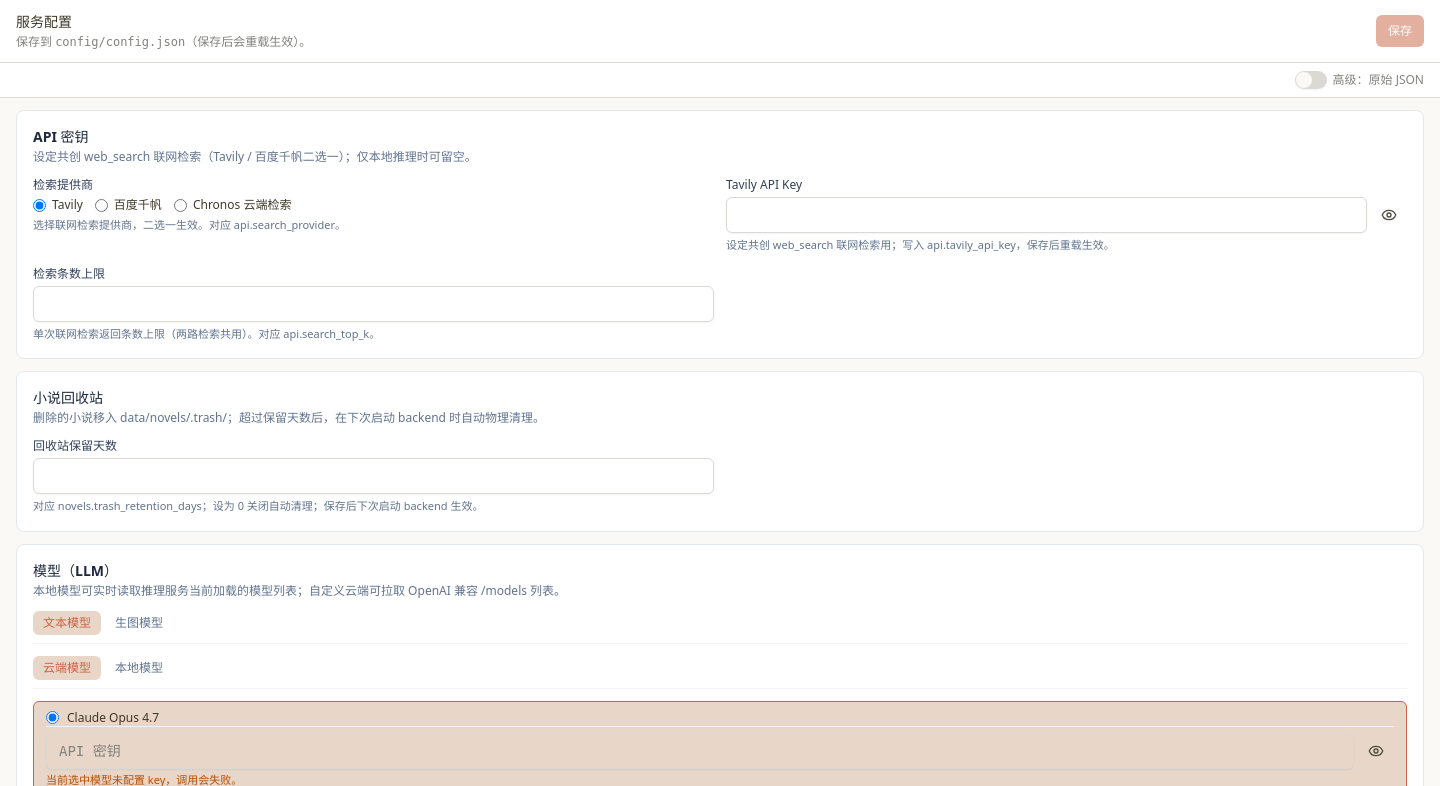
Test: ServiceConfigPage model tabs › 切到本地 tab 后不显示云端目录列表
Expected: the text "Claude Opus 4.7" is shown, [46,709,159,726]
Click the button "本地模型" at (139,668), box [105,656,173,680]
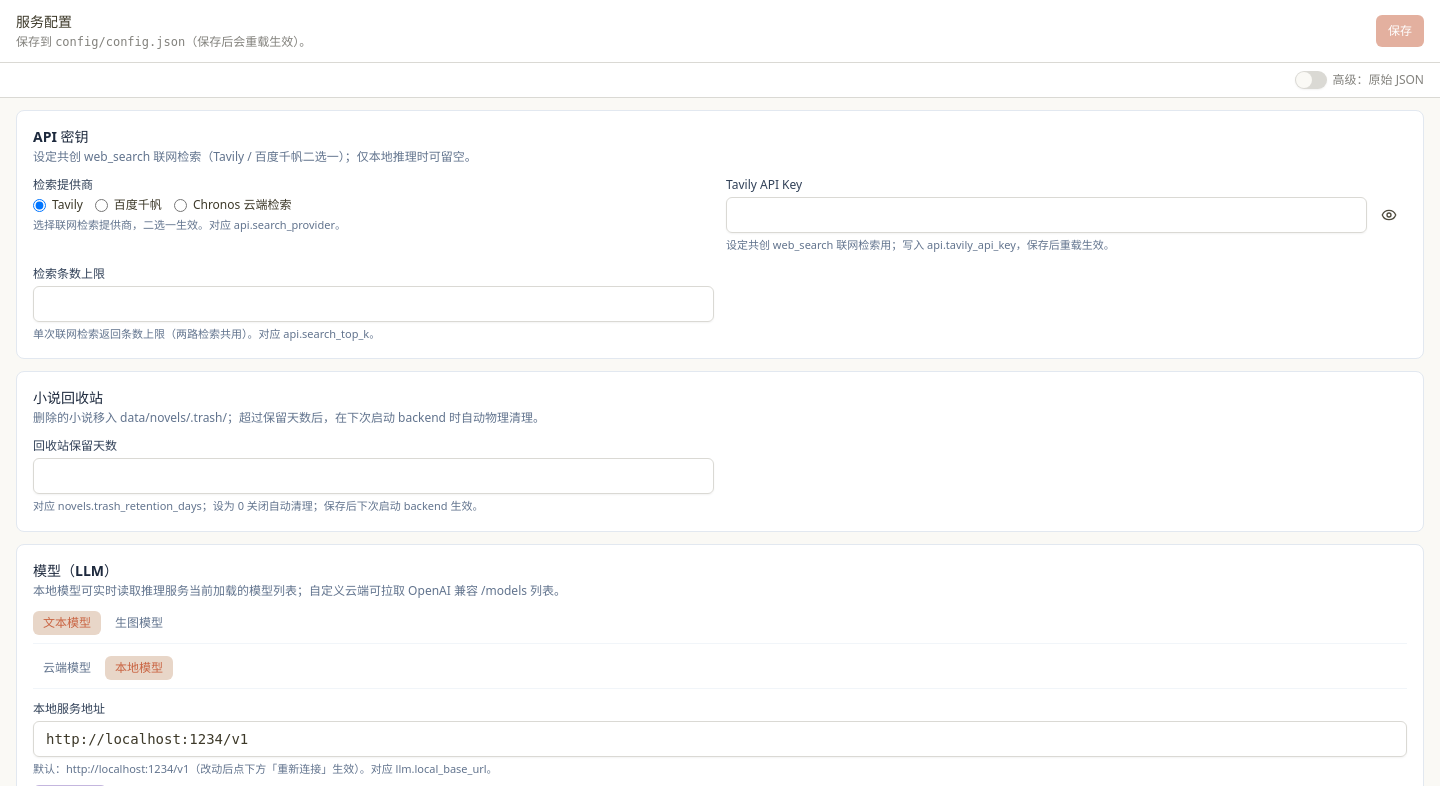
Result: the text "Claude Opus 4.7" is gone
